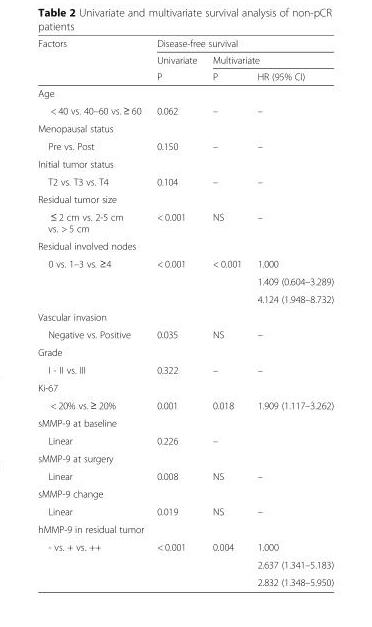table: (37, 37, 333, 587)
table column: (37, 37, 148, 587), (248, 37, 333, 587), (148, 37, 204, 587), (204, 37, 248, 587)
table column header: (37, 37, 333, 84)
table projected row header: (37, 119, 333, 137), (37, 154, 333, 172), (37, 236, 333, 254), (37, 307, 333, 325), (37, 413, 333, 431), (37, 484, 333, 502), (37, 84, 333, 101), (37, 190, 333, 207), (37, 343, 333, 360), (37, 378, 333, 395), (37, 449, 333, 466), (37, 520, 333, 537)
table row: (37, 207, 333, 236), (37, 101, 333, 119), (37, 119, 333, 137), (37, 154, 333, 172), (37, 172, 333, 190), (37, 236, 333, 254), (37, 254, 333, 272), (37, 289, 333, 307), (37, 307, 333, 325), (37, 325, 333, 343), (37, 360, 333, 378), (37, 395, 333, 413), (37, 413, 333, 431), (37, 431, 333, 449), (37, 466, 333, 484), (37, 484, 333, 502), (37, 502, 333, 520), (37, 537, 333, 555), (37, 555, 333, 573), (37, 67, 333, 84), (37, 84, 333, 101), (37, 137, 333, 154), (37, 190, 333, 207), (37, 272, 333, 289), (37, 343, 333, 360), (37, 378, 333, 395), (37, 449, 333, 466), (37, 520, 333, 537), (37, 51, 333, 67), (37, 37, 333, 51), (37, 573, 333, 587)
table spanning cell: (37, 254, 148, 307), (37, 537, 148, 587), (37, 37, 148, 84), (148, 37, 333, 51), (204, 51, 333, 67), (148, 51, 204, 84)
